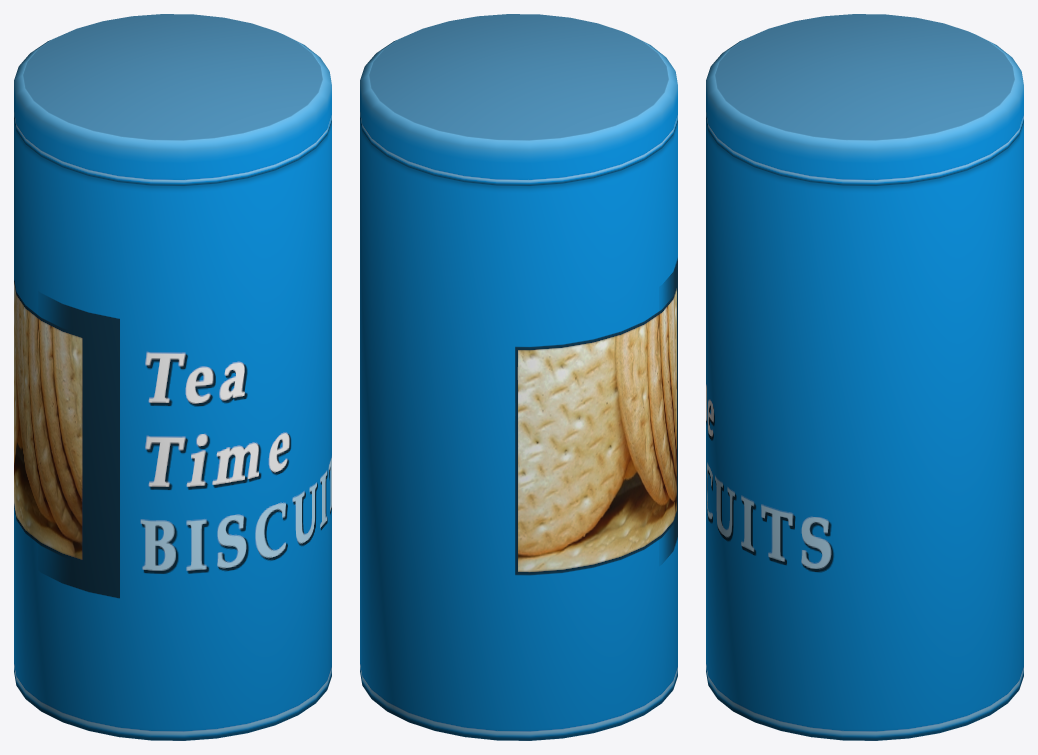
File: Furniture_Tin.fbx
3 renders of one model, left to right at view 1: azimuth 30°, elevation 25°; view 2: azimuth 150°, elevation 25°; view 3: azimuth 270°, elevation 25°, orthographic.
Parts seen in each view (by area): view 1: Empty_Mesh; view 2: Empty_Mesh; view 3: Empty_Mesh.
Boxes of the visible parts, bbox=[...] form: Empty_Mesh: bbox=[14, 14, 331, 740]; Empty_Mesh: bbox=[360, 14, 677, 740]; Empty_Mesh: bbox=[706, 14, 1023, 740].
Size of the model in its own units: 8579 by 17974 by 8595.
